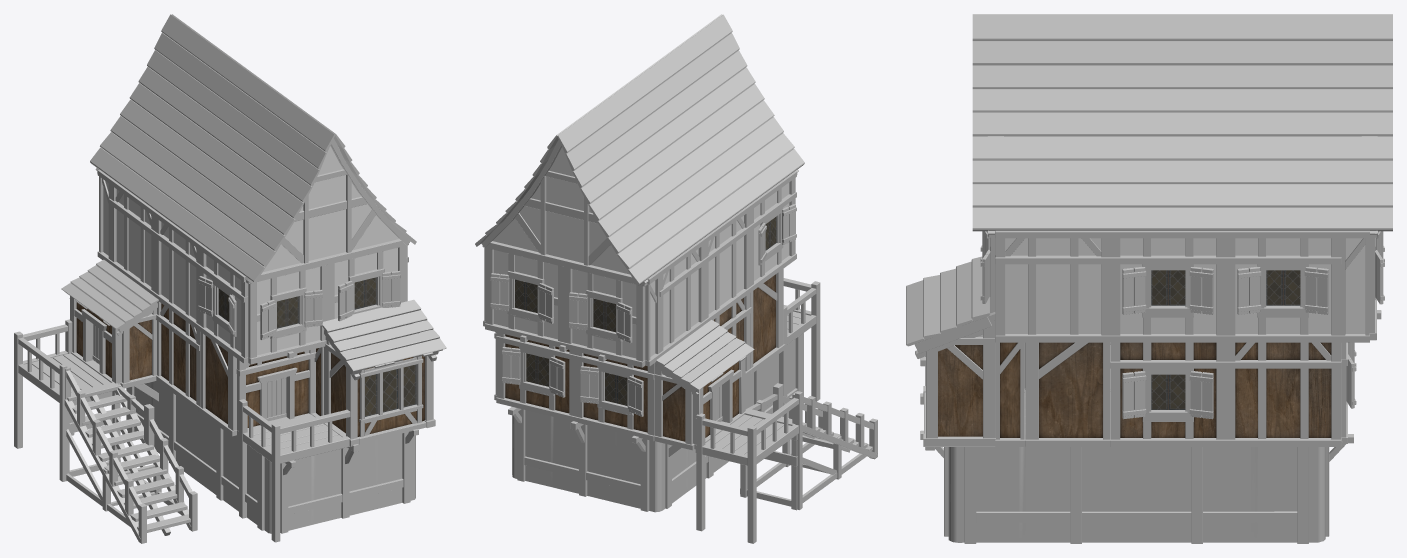
File: House_1A8.fbx
3 renders of one model, left to right at view 1: azimuth 30°, elevation 25°; view 2: azimuth 150°, elevation 25°; view 3: azimuth 270°, elevation 25°, orthographic. The views are drawn at different scales.
Visible parts, largest first — view 1: House_1A8, Plane.282, Cube.2359, Plane.284, Plane.283; view 2: House_1A8, Plane.294, Plane.295, Plane.296, Plane.297; view 3: House_1A8, Plane.286, Plane.287, Plane.288.
Boxes of the visible parts, box(x1,y1,x2,y2) form: House_1A8: box(14, 14, 446, 543); Plane.282: box(365, 364, 416, 416); Cube.2359: box(266, 377, 286, 421); Plane.284: box(354, 277, 376, 309); Plane.283: box(277, 296, 298, 328); House_1A8: box(475, 14, 877, 543); Plane.294: box(593, 298, 615, 332); Plane.295: box(515, 279, 537, 312); Plane.296: box(605, 372, 627, 405); Plane.297: box(526, 353, 548, 386); House_1A8: box(906, 14, 1392, 543); Plane.286: box(1151, 270, 1185, 305); Plane.287: box(1266, 270, 1300, 305); Plane.288: box(1151, 374, 1185, 409).
Bounding box in the file's own units: 1359 × 1879 × 1693.
